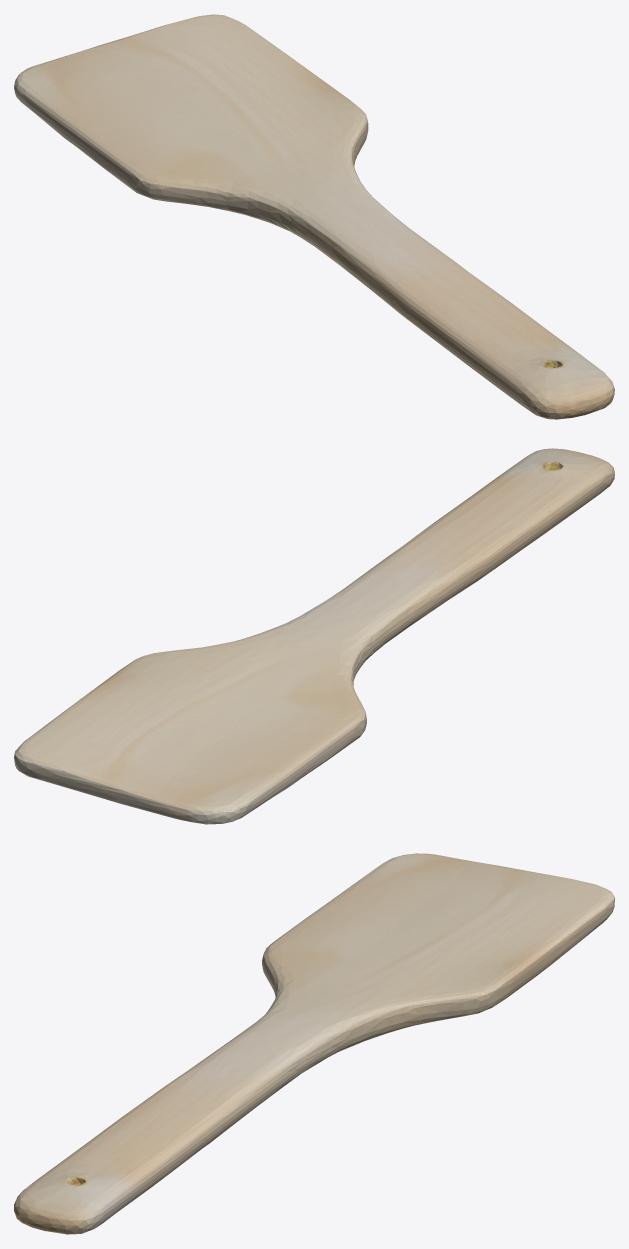
3 renders of one model, top to bottom at view 1: azimuth 30°, elevation 25°; view 2: azimuth 150°, elevation 25°; view 3: azimuth 330°, elevation 25°, orthographic. The views are drawn at different scales.
Parts seen in each view (by area): view 1: world; view 2: world; view 3: world.
Boxes of the visible parts, x1=… form: world: x1=14, y1=14, x2=614, y2=419; world: x1=14, y1=448, x2=614, y2=824; world: x1=14, y1=853, x2=614, y2=1234.
Bounding box in the file's own units: 0.2794 × 0.044 × 1.
Materials: 1 (1 with a texture image).
